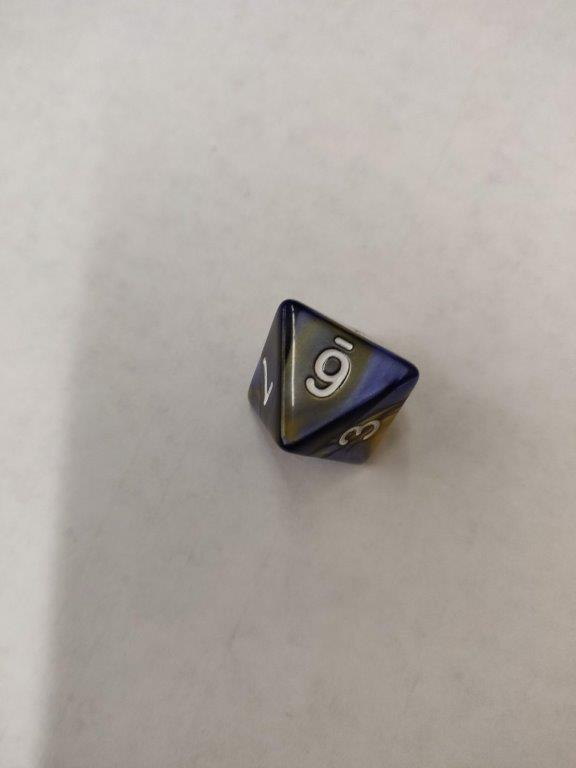d8-6: (248, 298, 423, 468)
